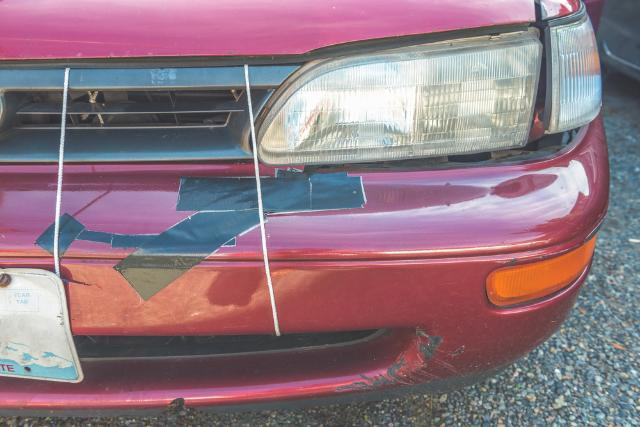crack: (62, 278, 102, 289)
dislocated part: (173, 110, 614, 409)
scratch: (329, 329, 488, 394)
